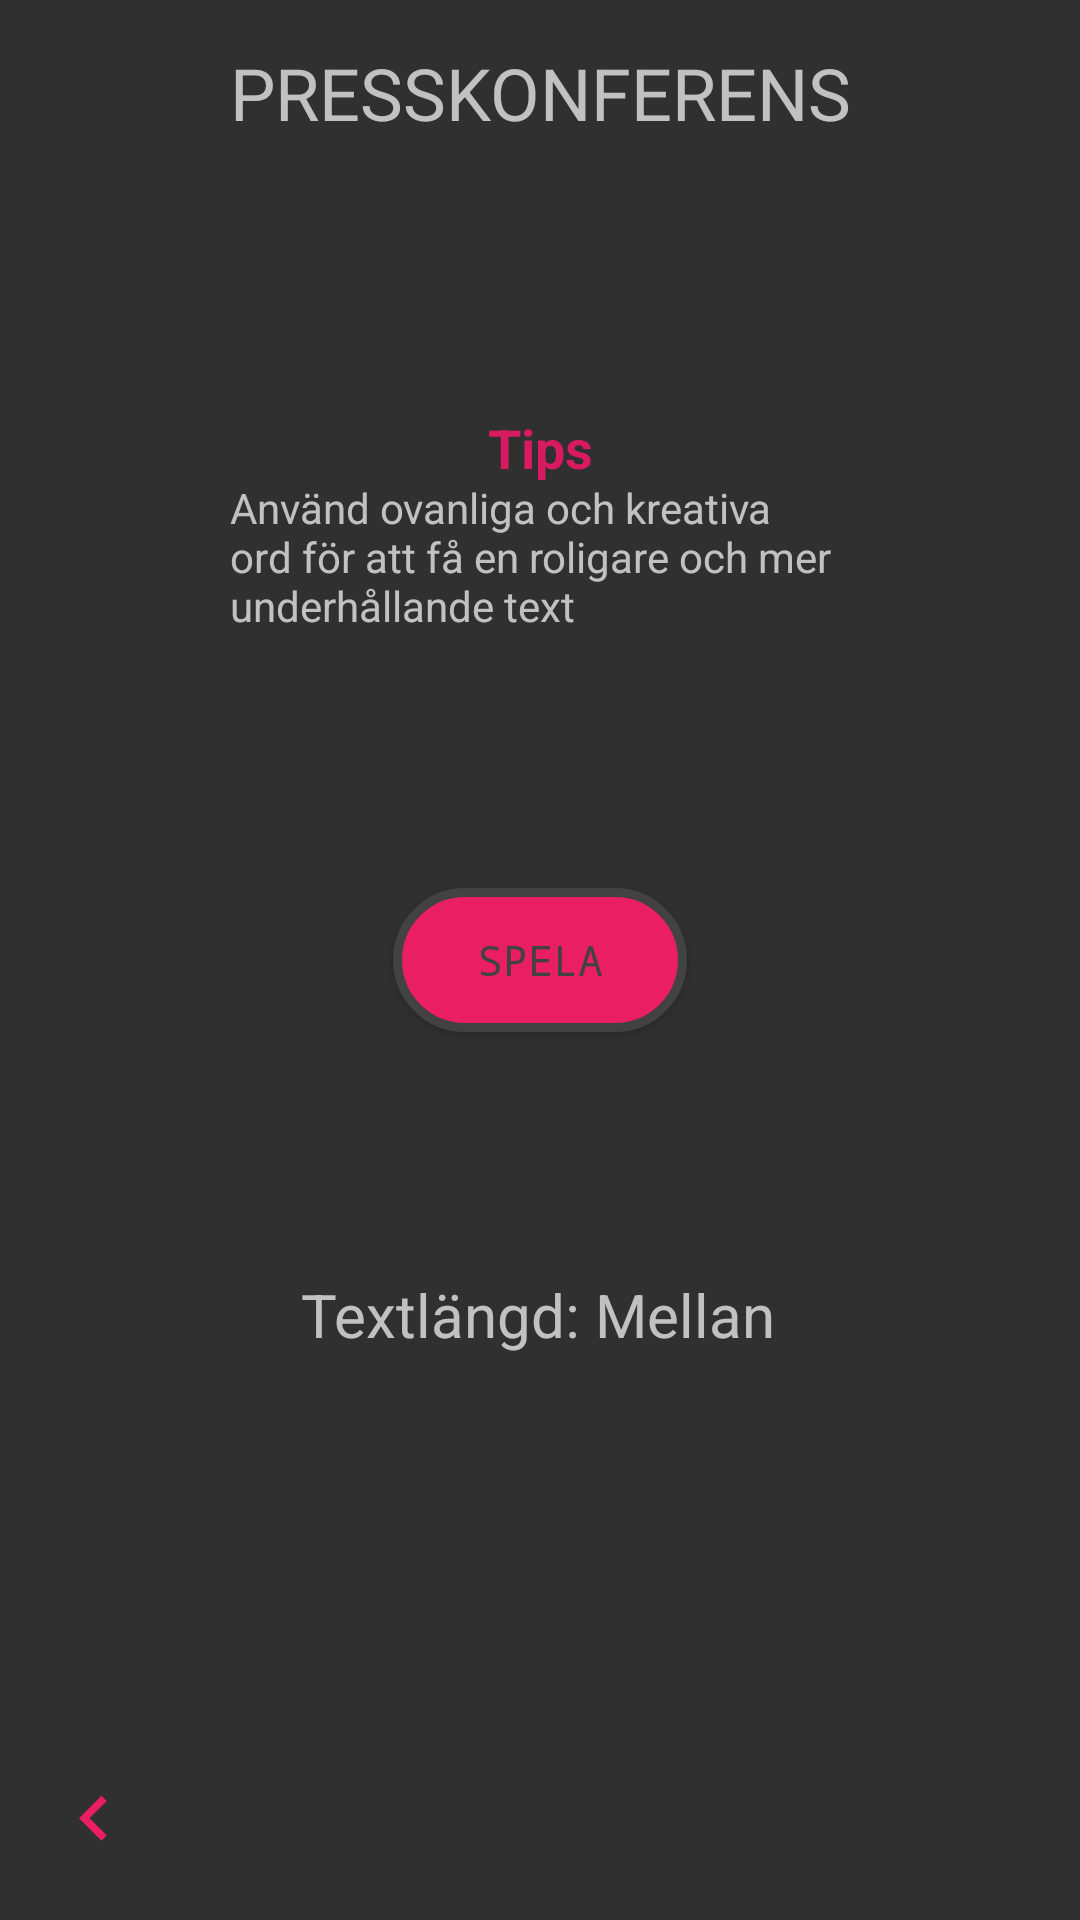

Where to tap for icons on this 1080x1920 app screen, as (x=x, y=y):
keyboard arrow left: (x=93, y=1818)
